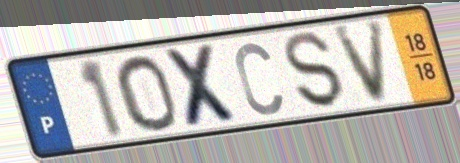1: (77, 56, 127, 142)
C: (232, 39, 286, 119)
O: (112, 52, 181, 133)
S: (282, 30, 348, 111)
V: (329, 16, 389, 108)
X: (159, 41, 246, 131)
